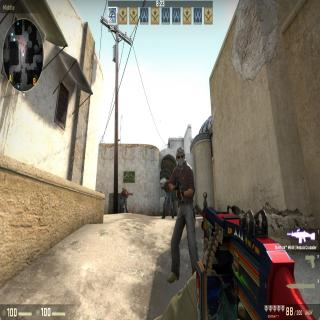T-Body: (170, 144, 200, 286), (161, 174, 174, 218), (121, 185, 128, 213)
T-Head: (175, 145, 187, 170), (164, 175, 171, 183), (121, 186, 125, 191)
